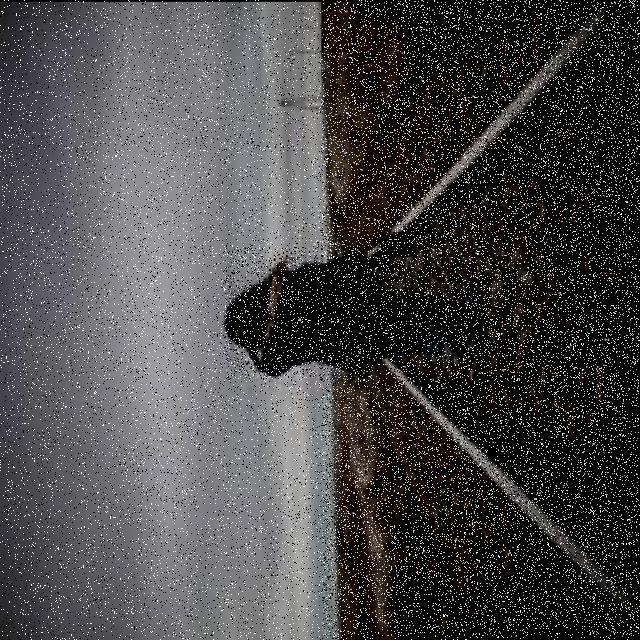rail: (324, 1, 640, 637)
